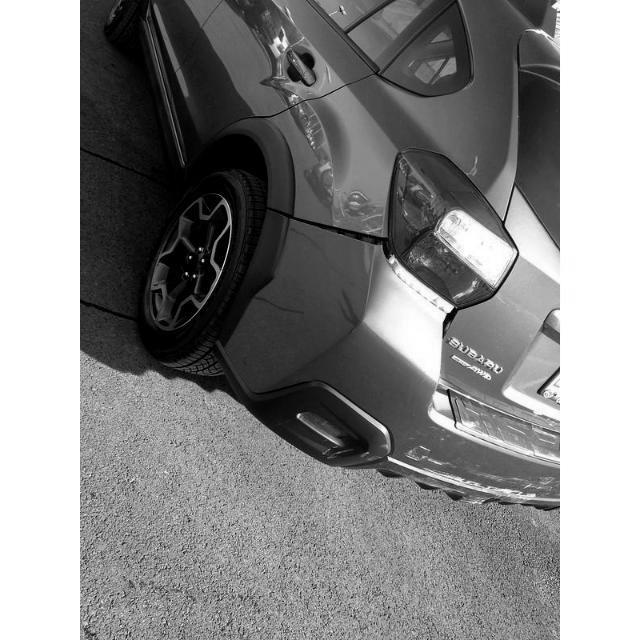rear-bumper-dent: (396, 418, 552, 525)
